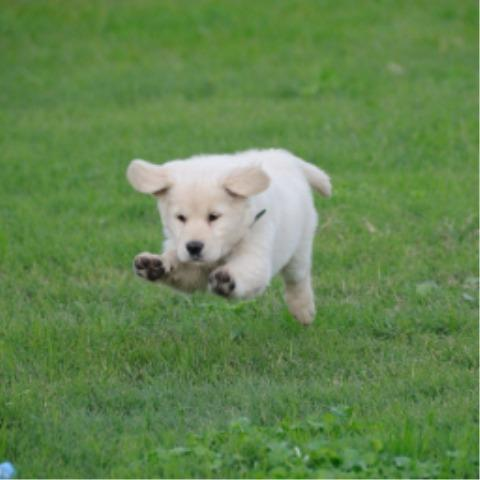puppy-dog: (126, 146, 333, 326)
